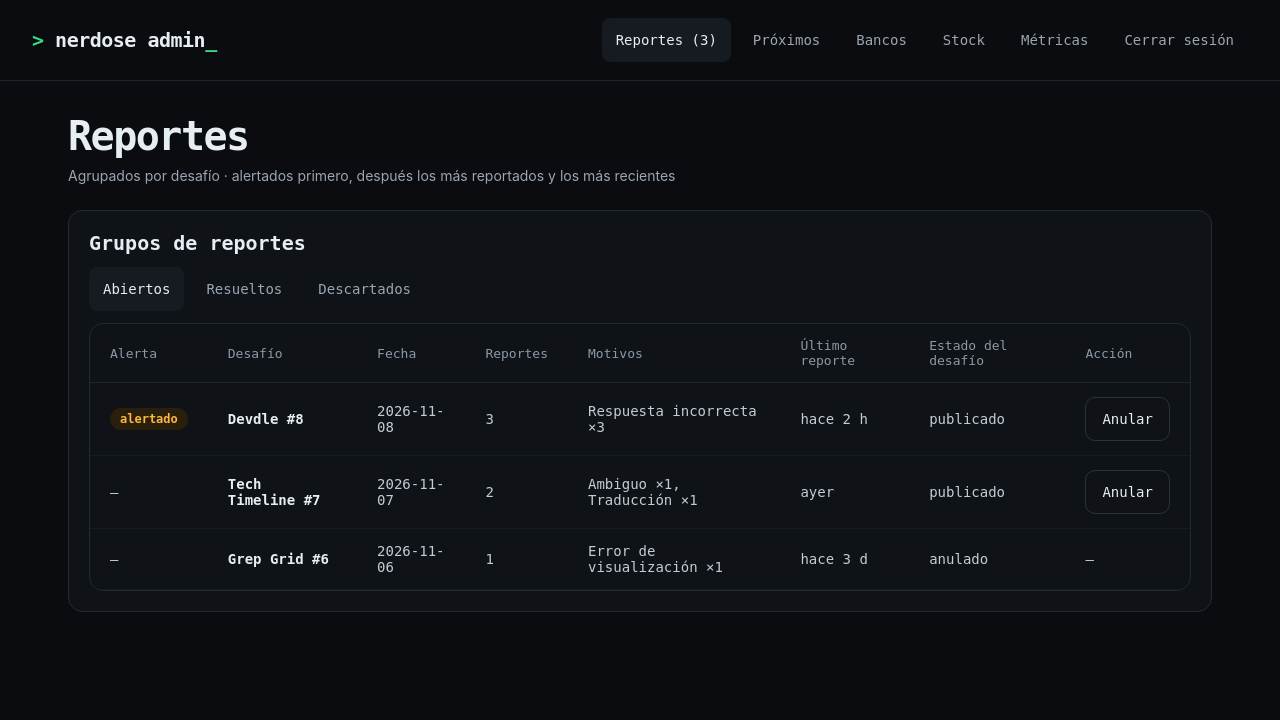
Test: modal de anulación (O-01) › desde el drawer: contenido, foco y opciones sin preselección (TS-49)
The width and height of the screenshot is (1280, 720).
Click the button "Devdle #8" at {"x": 266, "y": 419}, box [228,411,304,427]
(page scrolled)
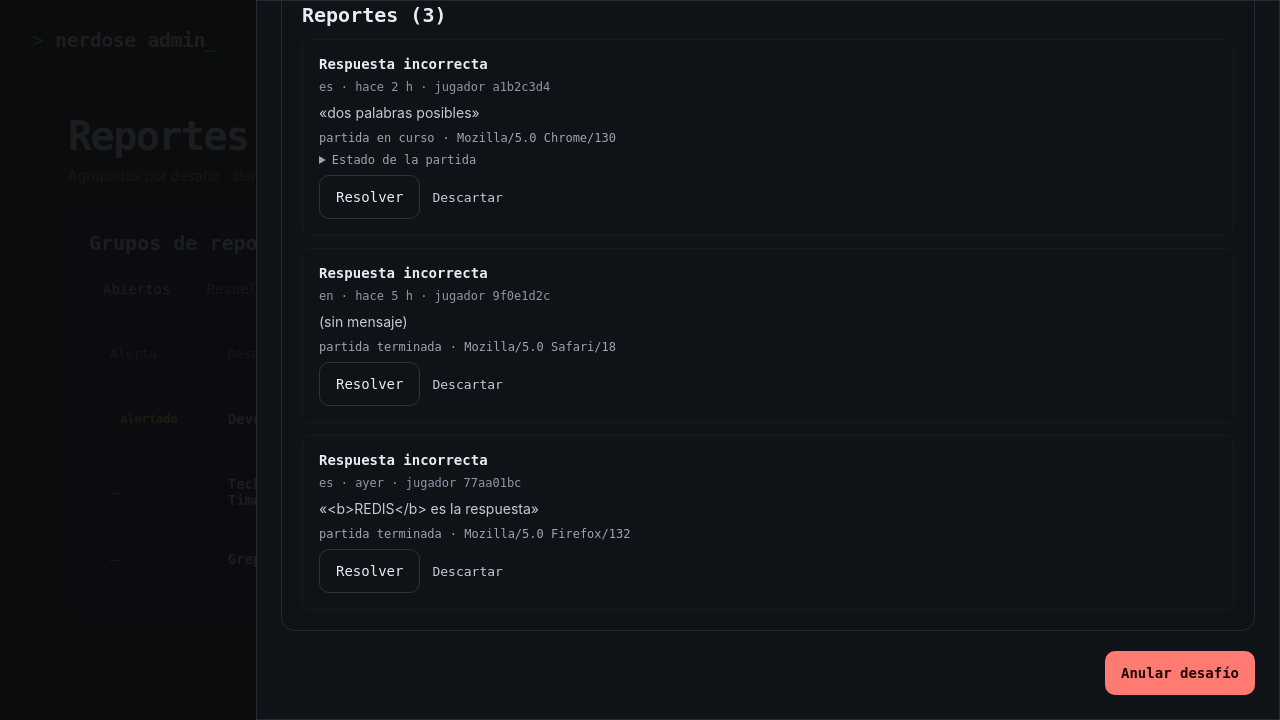
Click the button "Anular desafío" at {"x": 1180, "y": 673}, box [1105,651,1255,695]
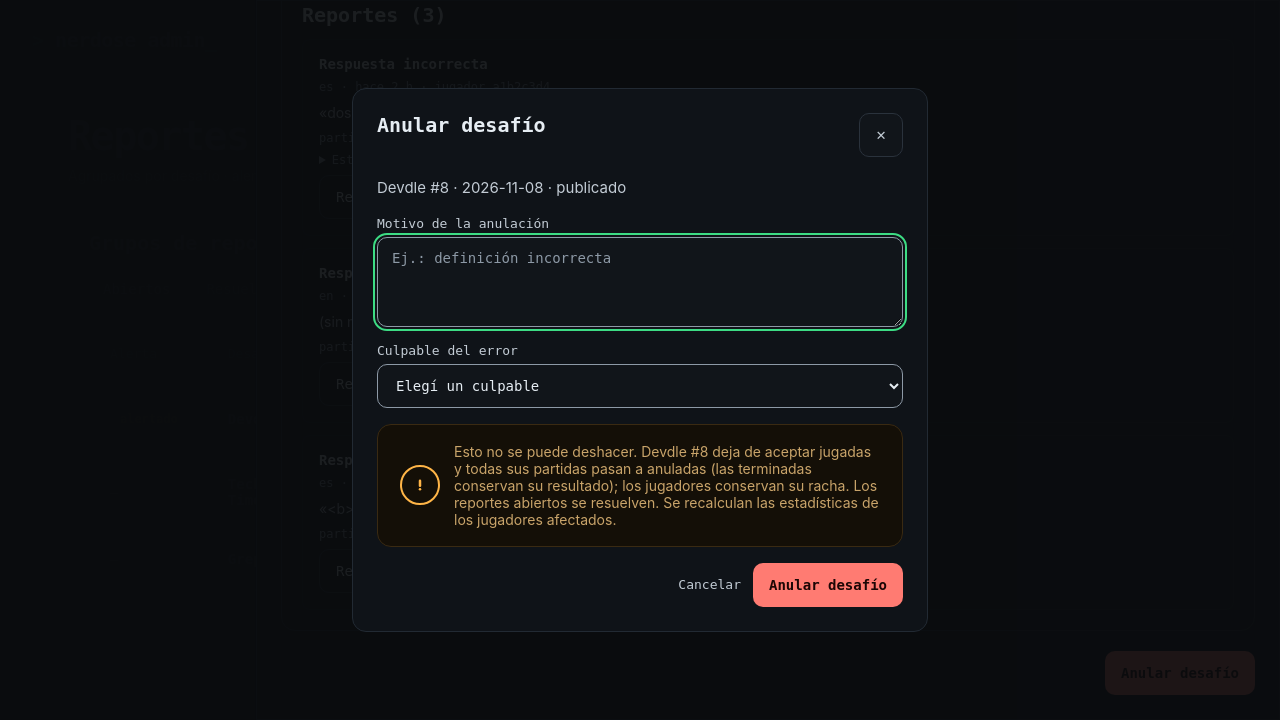
Expected: the dialog "Anular desafío" shows "Devdle #8 · 2026-11-08 · publicado", [352,88,928,632]
Expected: the dropdown labelled "Culpable del error" shows "Elegí un culpable", [377,364,903,408]
